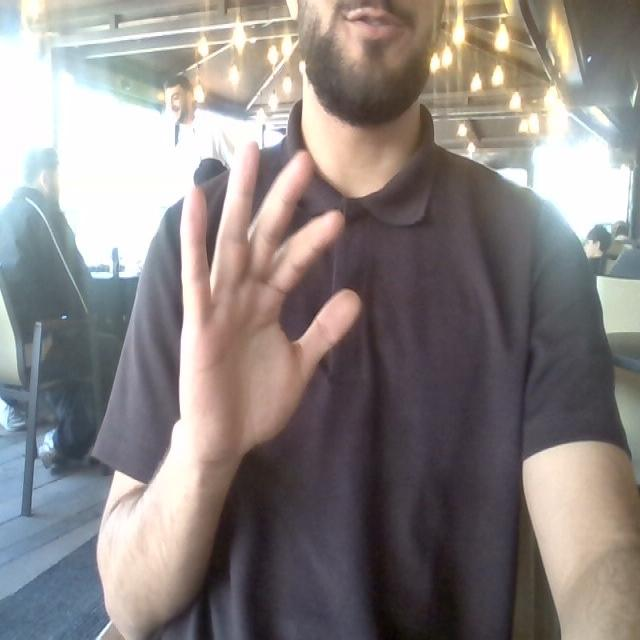Hand: (179, 144, 359, 465)
